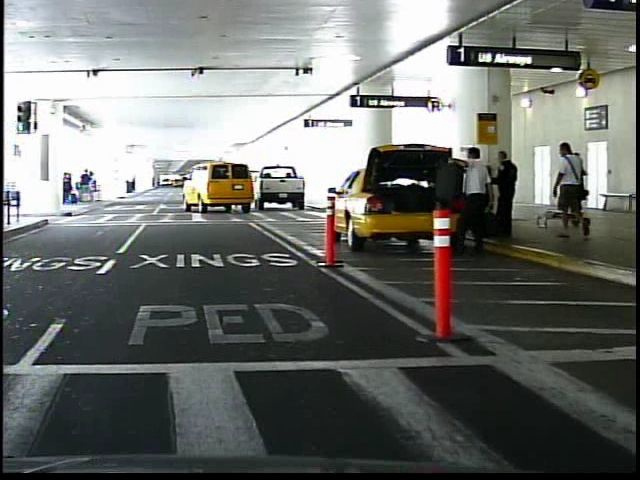person: (545, 138, 588, 240)
